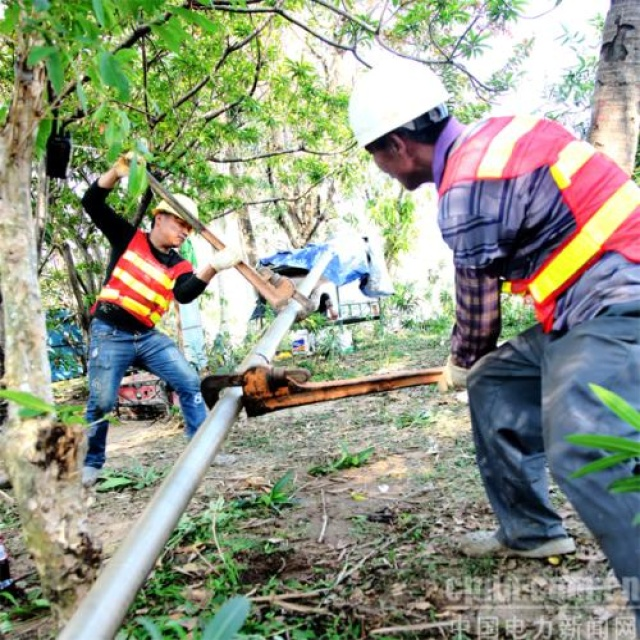Helmet: (348, 55, 460, 204), (145, 179, 202, 257)
Reflective vest: (434, 112, 640, 326), (83, 230, 199, 341)
